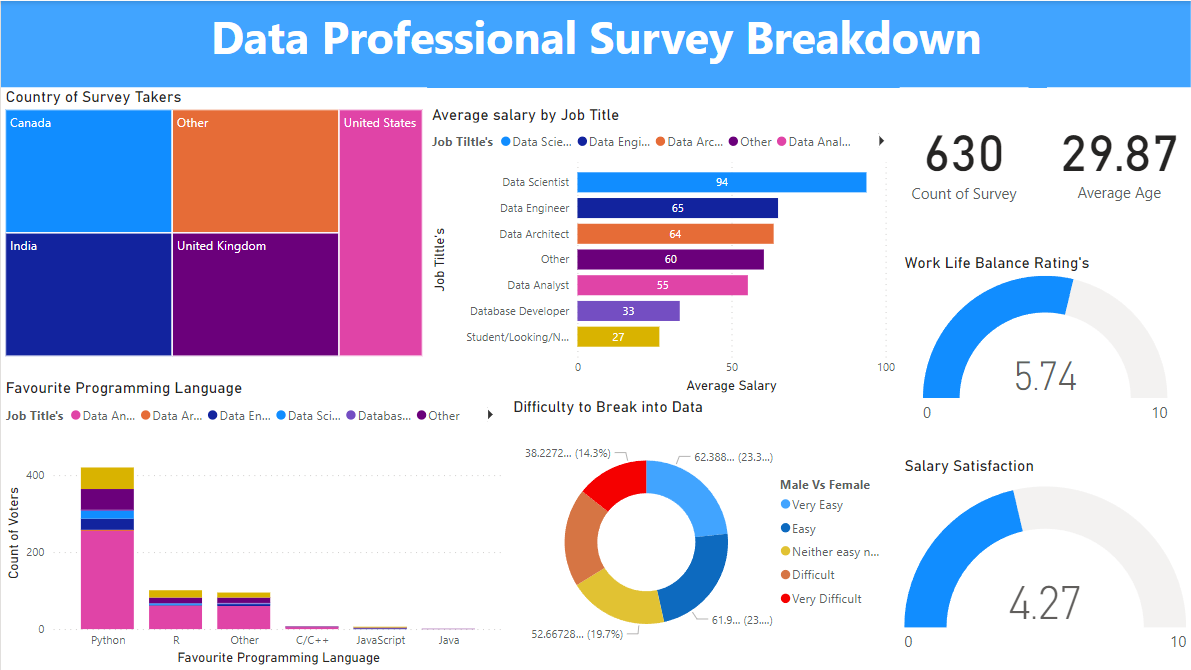

This screenshot's page, from the dashboard's own definition file:
{"tool":"powerbi","page":{"name":"Page 1","canvas":[1280,720],"ordinal":0},"visuals":[{"type":"textbox","box":[0,0,1280.3,93.3],"z":0},{"type":"card","fields":{"Values":["CountNonNull(Data Professional Survey.Unique ID)"]},"box":[966.9,92.8,138.5,150.6],"z":1000},{"type":"card","fields":{"Values":["Avg(Data Professional Survey.Q10 - Current Age)"]},"box":[1125,93.2,155.3,149.9],"z":2000},{"type":"barChart","title":"Average salary by Job Title","fields":{"Category":["Data Professional Survey.Q1 - Which Title Best Fits your Current Role?.1"],"Y":["Avg(Data Professional Survey.Average Salary)"],"Series":["Data Professional Survey.Q1 - Which Title Best Fits your Current Role?.1"]},"box":[458.6,111.6,508.3,314.7],"z":3000},{"type":"columnChart","title":"Favourite Programming Language","fields":{"Category":["Data Professional Survey.Q5 - Favorite Programming Language.1"],"Y":["CountNonNull(Data Professional Survey.Unique ID)"],"Series":["Data Professional Survey.Q1 - Which Title Best Fits your Current Role?.1"]},"box":[0,406.1,546,313.3],"z":4000},{"type":"treemap","title":"Country of Survey Takers","fields":{"Group":["Data Professional Survey.Q11 - Which Country do you live in?.1"],"Values":["Count(Data Professional Survey.Q11 - Which Country do you live in?.1)"]},"box":[0,92.8,458.6,294.5],"z":5000},{"type":"gauge","title":"Work Life Balance Rating''s","fields":{"Y":["Avg(Data Professional Survey.Q6 - How Happy are you in your Current Position with the following? (Work/Life Balance))"],"MinValue":["Min(Data Professional Survey.Q6 - How Happy are you in your Current Position with the following? (Work/Life Balance))1"],"MaxValue":["Max(Data Professional Survey.Q6 - How Happy are you in your Current Position with the following? (Work/Life Balance))2"]},"box":[966.9,271.7,313.3,192.3],"z":6000},{"type":"gauge","title":"Salary Satisfaction","fields":{"Y":["Avg(Data Professional Survey.Q6 - How Happy are you in your Current Position with the following? (Salary))"],"MinValue":["Min(Data Professional Survey.Q6 - How Happy are you in your Current Position with the following? (Salary))1"],"MaxValue":["Max(Data Professional Survey.Q6 - How Happy are you in your Current Position with the following? (Salary))2"]},"box":[966.9,489.5,313.3,230],"z":7000},{"type":"donutChart","title":"Difficulty to Break into Data","fields":{"Category":["Data Professional Survey.Q7 - How difficult was it for you to break into Data?"],"Y":["Avg(Data Professional Survey.Average Salary)"]},"box":[546,426.3,420.9,293.2],"z":8000}]}

Visuals, with their boxes in screenshot pixels (x1, y1, x2, y2), scaled from the page's 1280x720 canvas onto the 1191x670 screenshot:
textbox: 0,0,1190,87
card - CountNonNull(Data Professional Survey.Unique ID): 900,86,1029,226
card - Avg(Data Professional Survey.Q10 - Current Age): 1047,87,1190,226
"Average salary by Job Title" barChart: 427,104,900,397
"Favourite Programming Language" columnChart: 0,378,508,669
"Country of Survey Takers" treemap: 0,86,427,360
"Work Life Balance Rating''s" gauge: 900,253,1190,432
"Salary Satisfaction" gauge: 900,456,1190,669
"Difficulty to Break into Data" donutChart: 508,397,900,669
